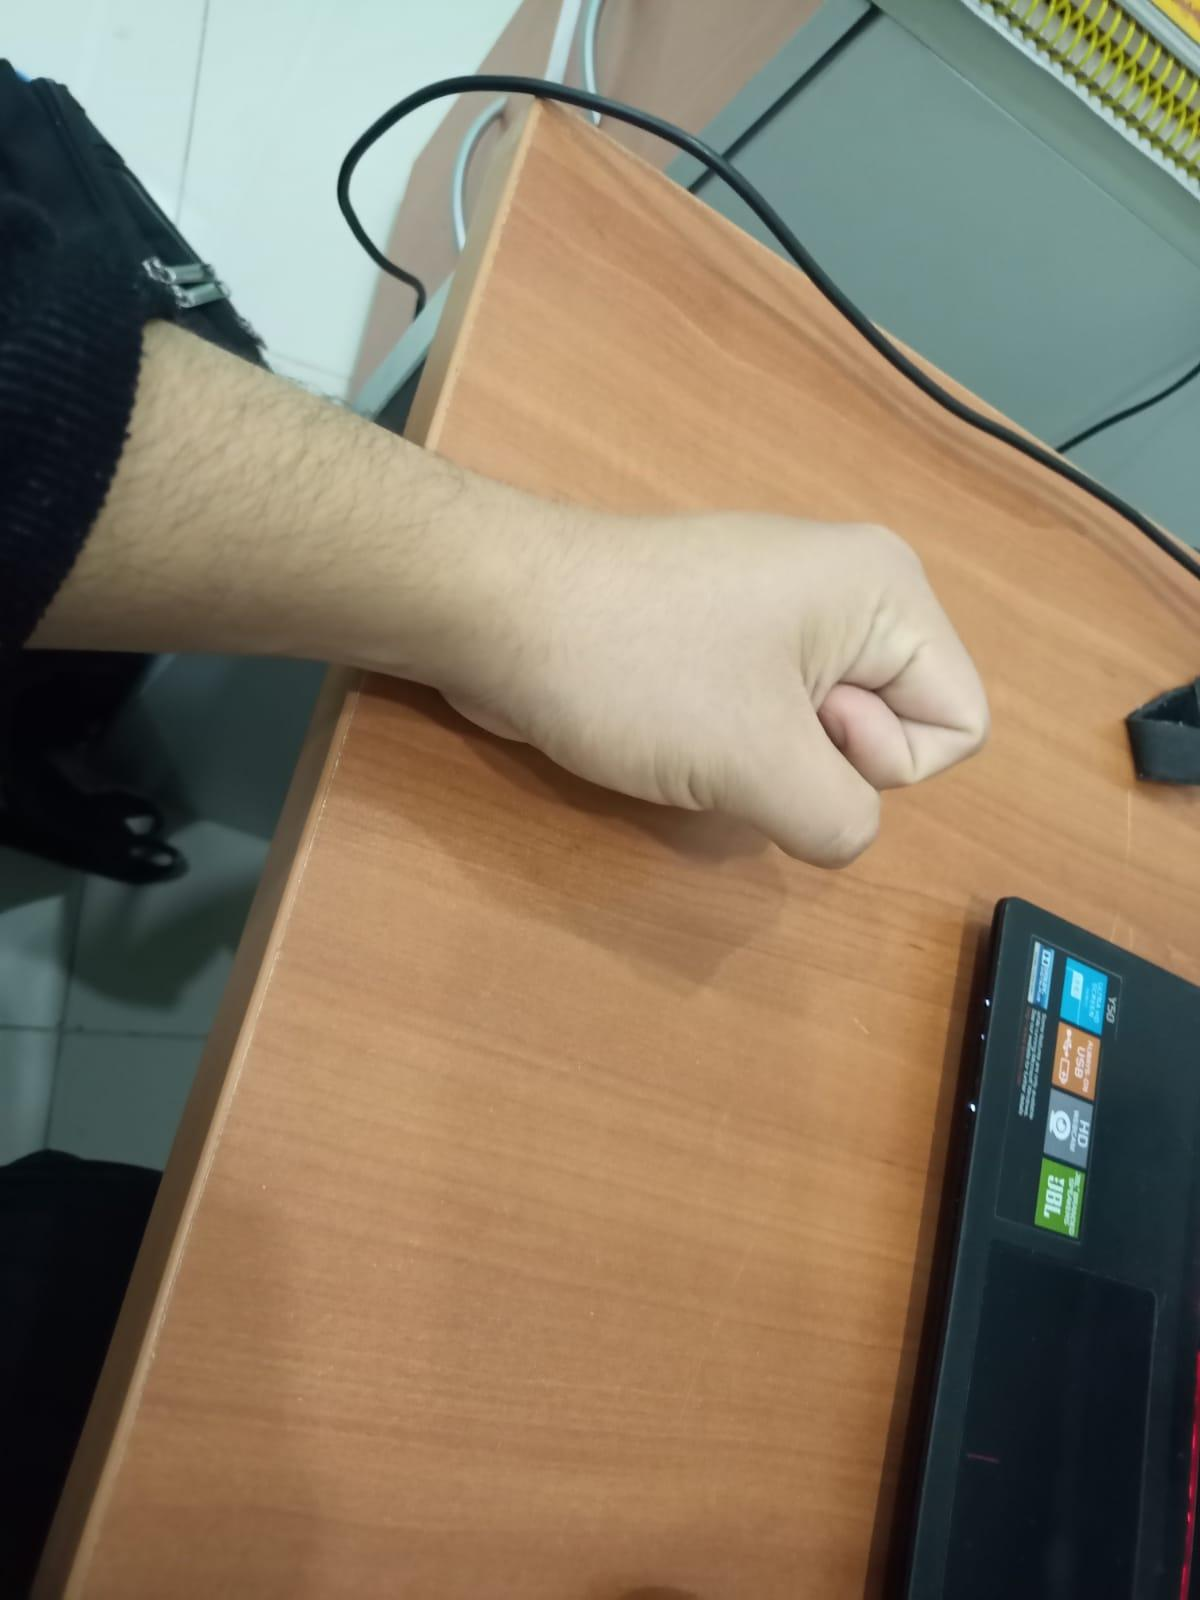Stone: (440, 440, 1010, 868)
